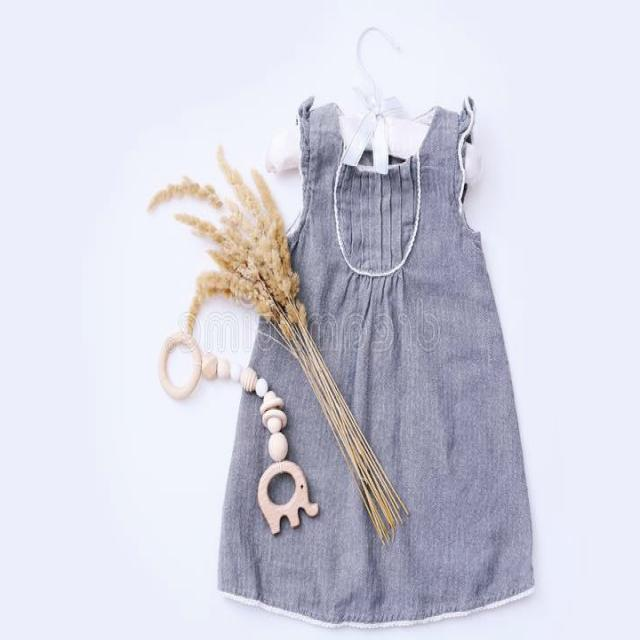clothes: (247, 83, 492, 636)
